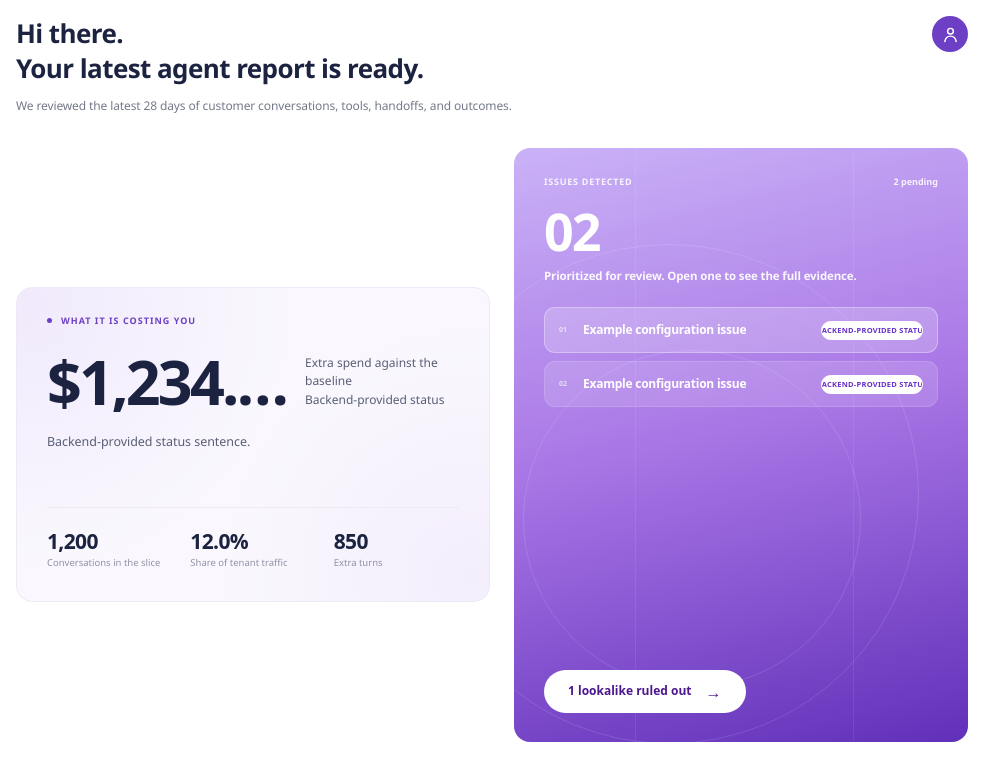
Nexus Loop overview › previews each issue impact on hover and keyboard focus without opening the dialog
Check: the button "$1,234.50" is shown, box [47,351,292,412]
Hover over the button with aria-label "A lookup is not returning answers" at (741,384), box [544,361,938,407]
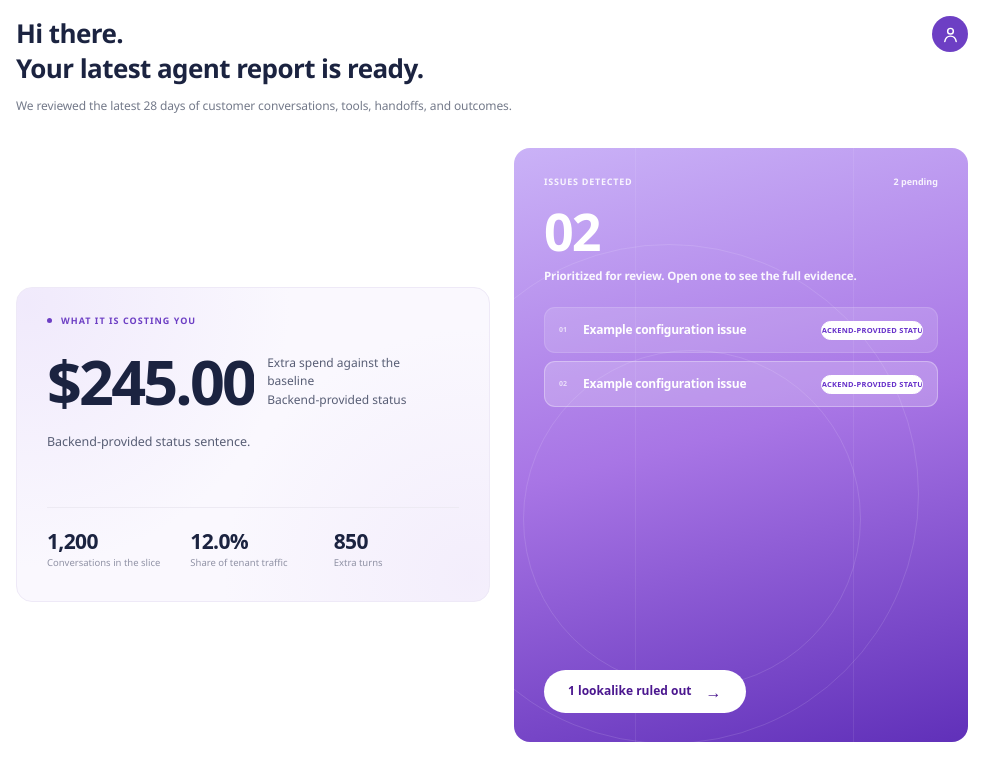
Check: the button "$245.00" is shown, box [47,351,254,412]
Focus the button with aria-label "Responses take too many turns" at (741,330), box [544,307,938,353]
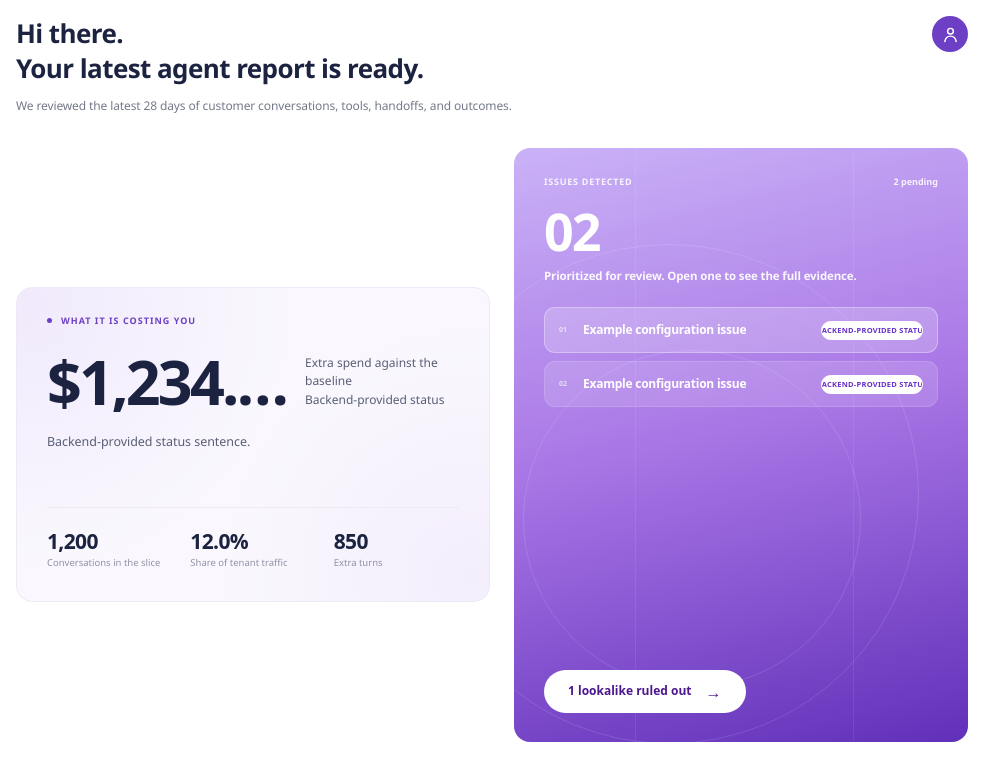
Check: the button "$1,234.50" is shown, box [47,351,292,412]
